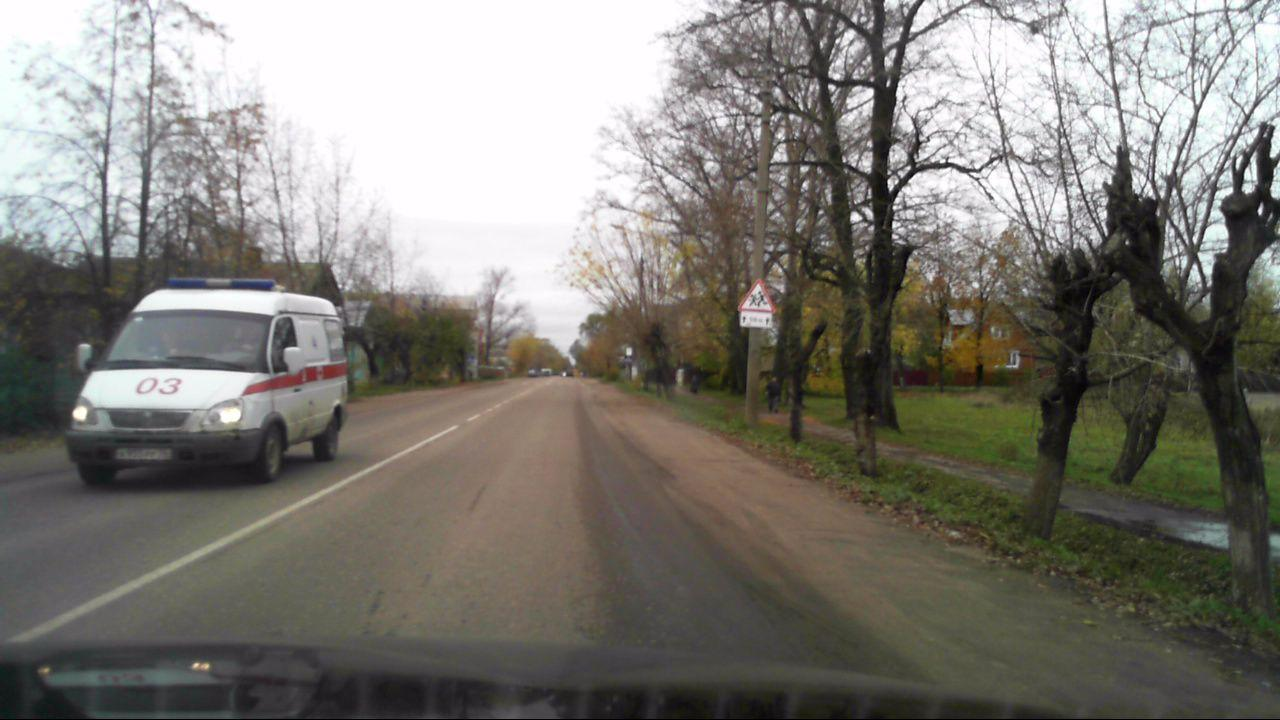road_sign: (734, 274, 779, 314)
